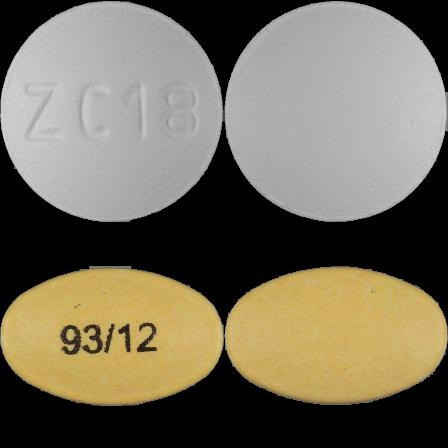63629-3349: (0, 0, 224, 224)
